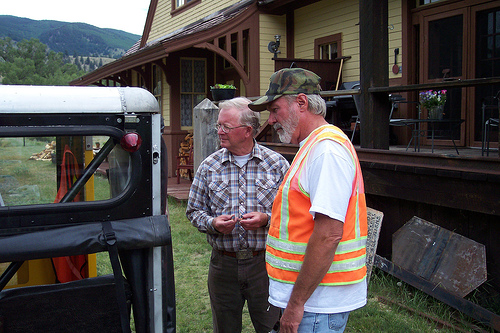without_mask: (265, 92, 328, 144), (209, 101, 261, 152)
